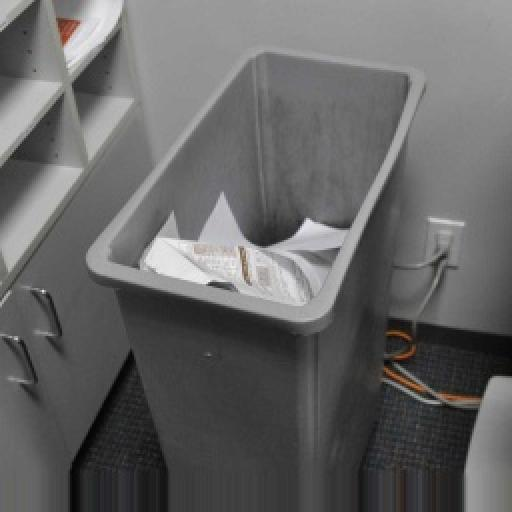trash-can: (77, 0, 440, 512)
